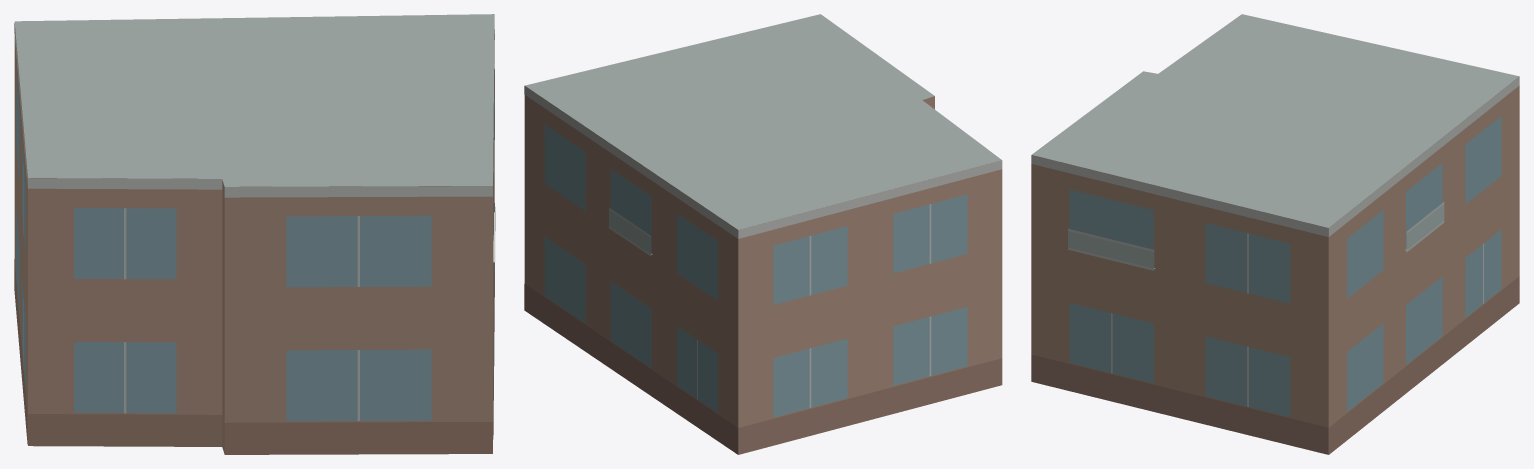
File: survey-upis-32791033.glb
The picture shows the model from 3 angles, left to right: view 1: azimuth 30°, elevation 25°; view 2: azimuth 150°, elevation 25°; view 3: azimuth 270°, elevation 25°; orthographic projection. The views are drawn at different scales.
Visible parts, largest first — view 1: survey-upis-32791033.tmp; view 2: survey-upis-32791033.tmp; view 3: survey-upis-32791033.tmp.
Boxes of the visible parts, x1,y1,x2,y2 form: survey-upis-32791033.tmp: (14, 14, 495, 454); survey-upis-32791033.tmp: (524, 14, 1002, 454); survey-upis-32791033.tmp: (1031, 14, 1519, 454).
Bounding box in the file's own units: 12.35 × 6.1 × 11.9.
